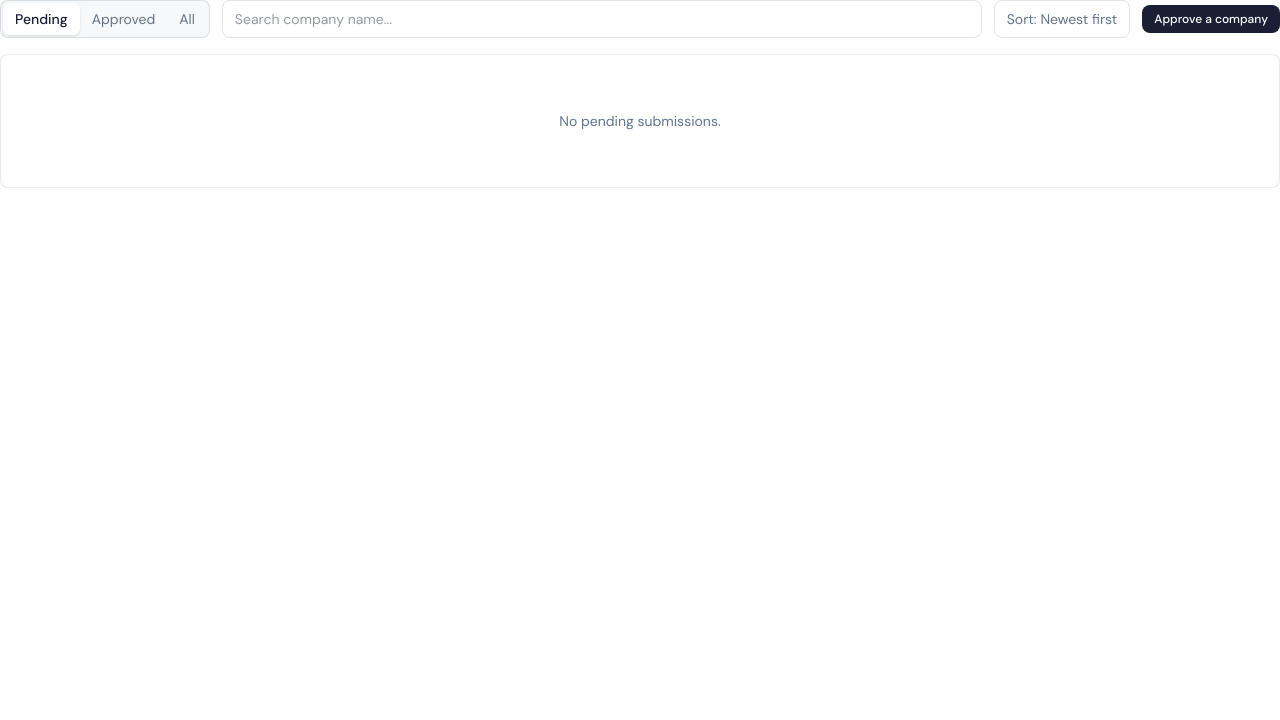
Test: EntityApprovalsTab — proactive approval › searches the directory (debounced, ≥2 chars) and lists results
This screenshot has width=1280, height=720.
Click the button "Approve a company" at (1211, 19), box x1=1142 y1=5 x2=1279 y2=33
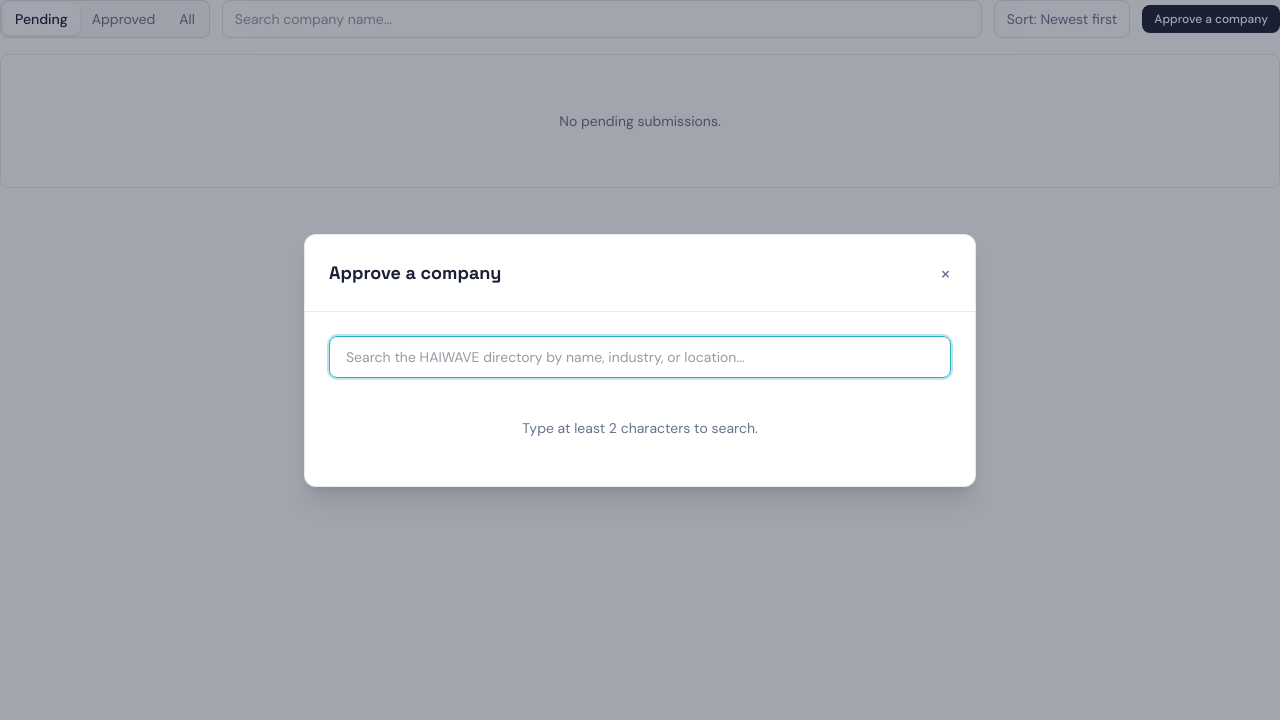
Type "ac" into the field with placeholder "Search the HAIWAVE directory" at (640, 356), box x1=329 y1=336 x2=951 y2=378
Wait 300 ms
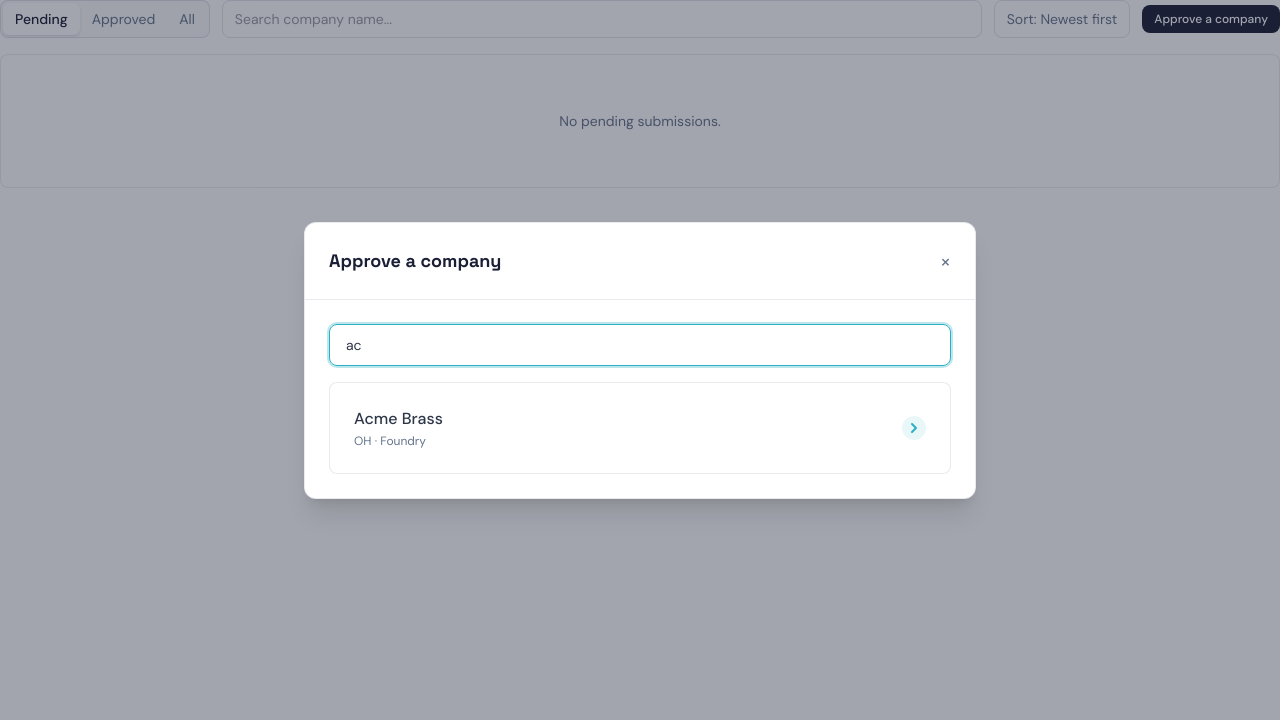
Now the text "Acme Brass" is shown, box x1=354 y1=408 x2=443 y2=428
